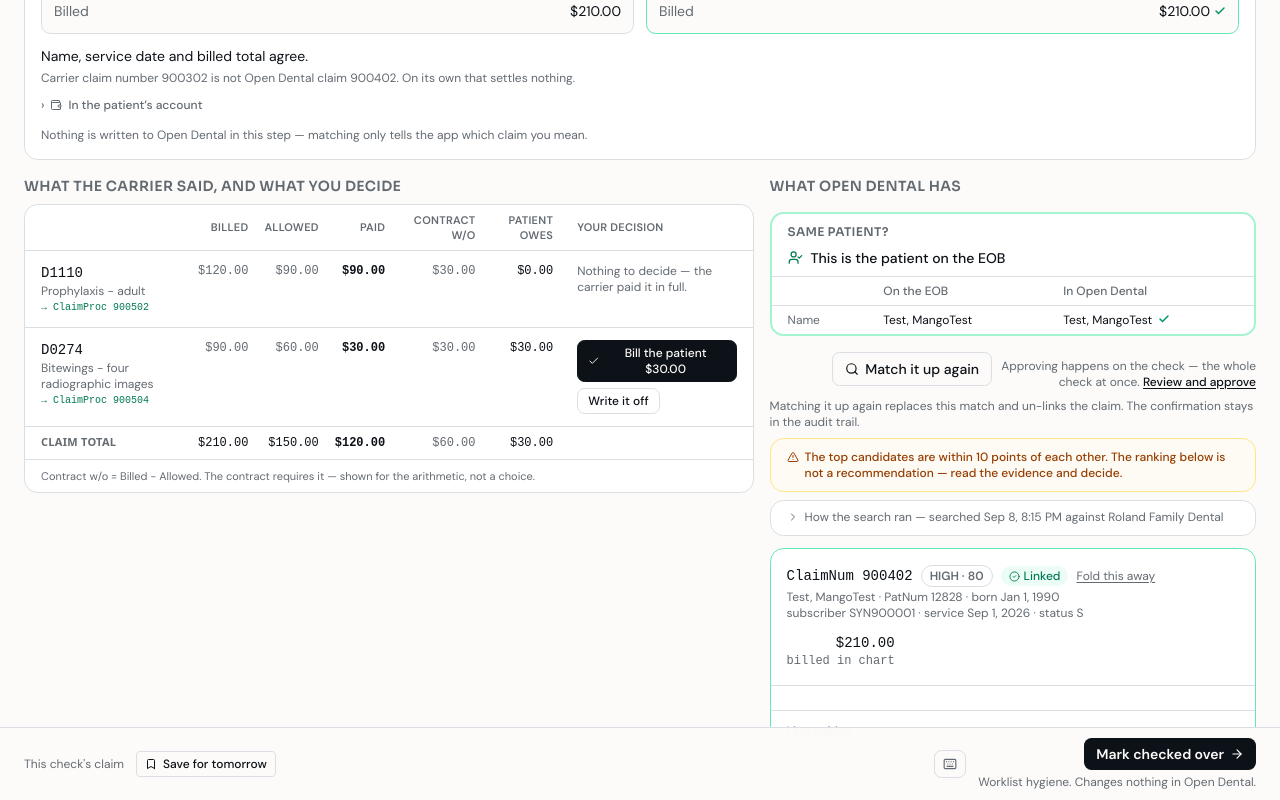
Test: 1 · enter a check, the whole road › 1.10 the bench — amber: a write-off with its reason carries the decision chip
(page scrolled)
Click the button "Write it off".
click(618, 401)  # box [577,388,660,414]
(page scrolled)
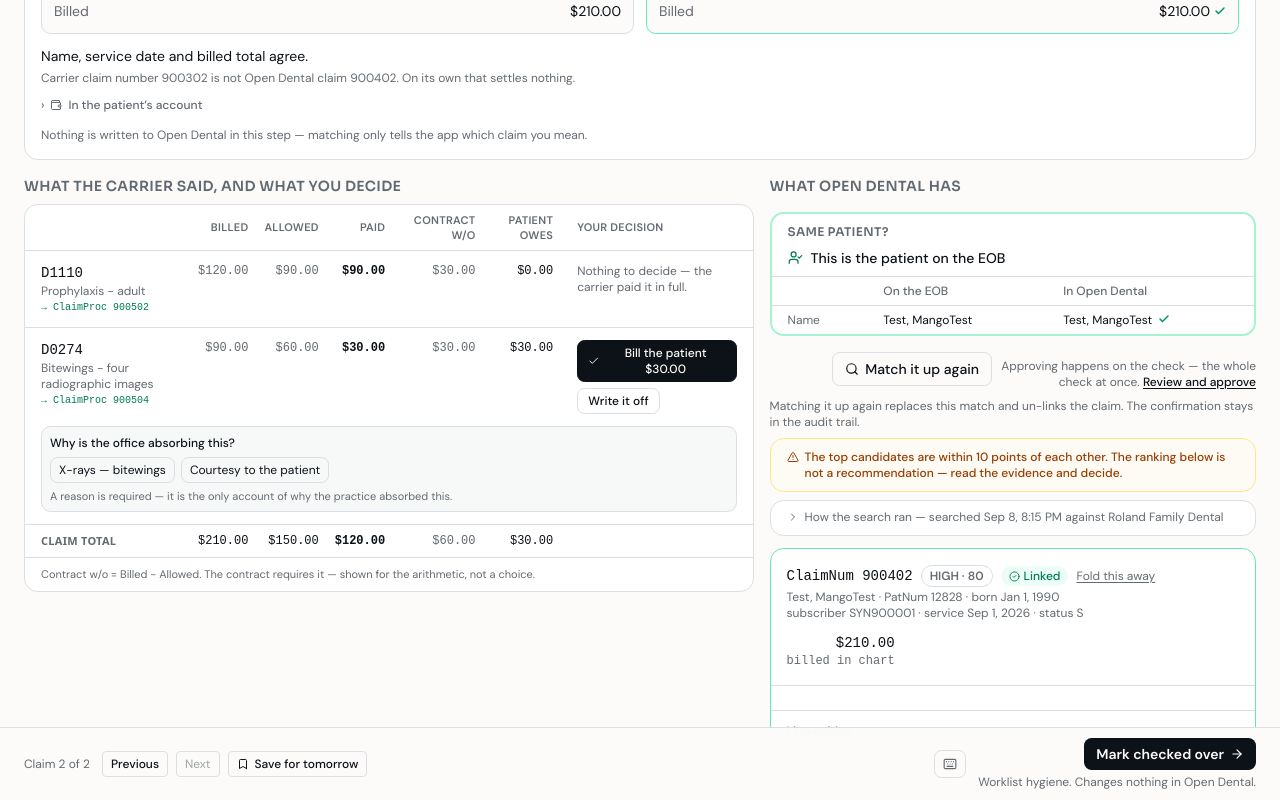
Click the button "X-rays — bitewings".
click(112, 470)  # box [50,457,175,483]
(page scrolled)
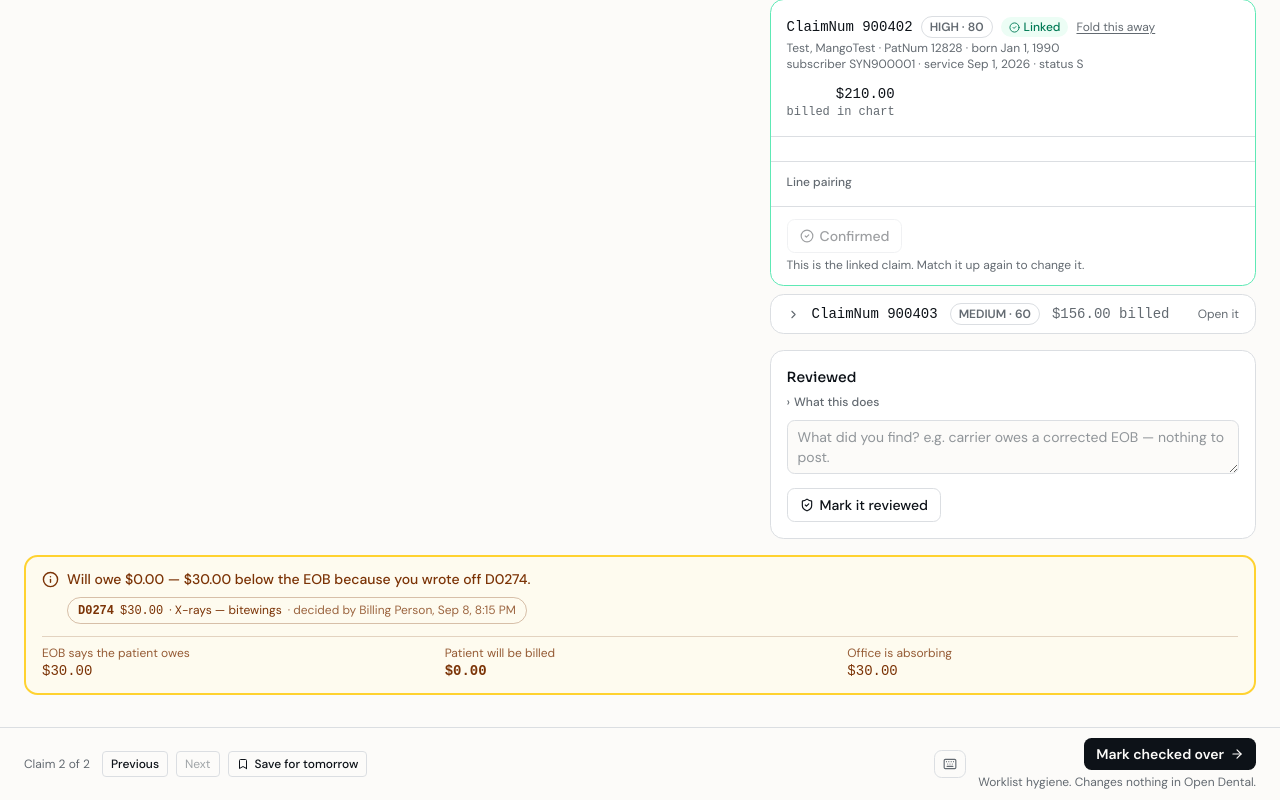
Result: the text with test id "verdict-sentence" reads "Will owe $0.00 — $30.00 below the EOB because you wrote off D0274." at [67,570,530,588]
